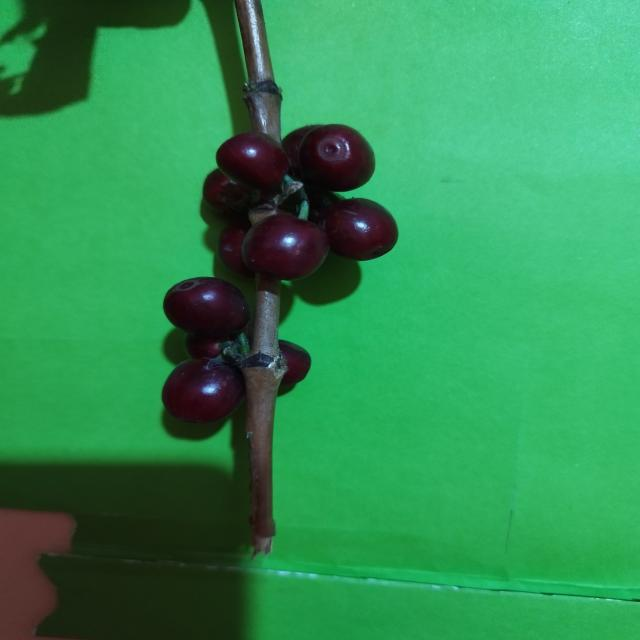Sano: (242, 214, 330, 281), (162, 359, 245, 424), (163, 277, 250, 338), (297, 125, 375, 192), (323, 199, 398, 261), (215, 135, 294, 192)
